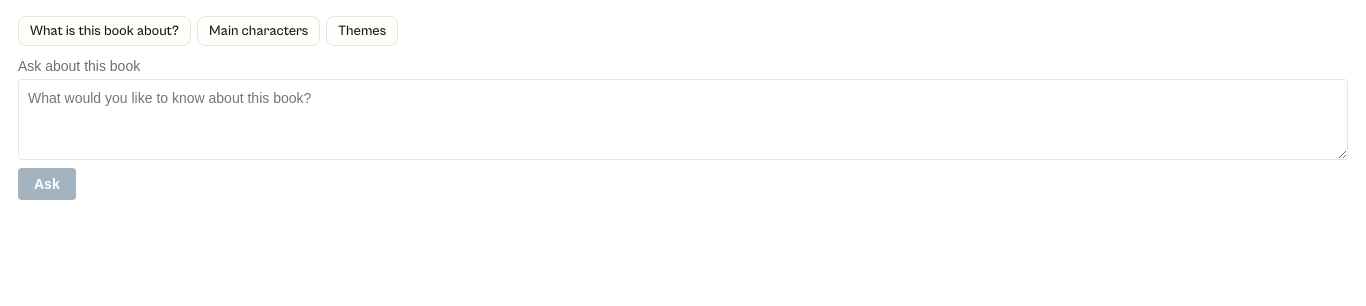
AiPanel › displays the AI response after submitting a question
The image size is (1366, 306).
Type "What is the main theme?" into the text box named "your question". click: [683, 120]
box: [18,79,1348,160]
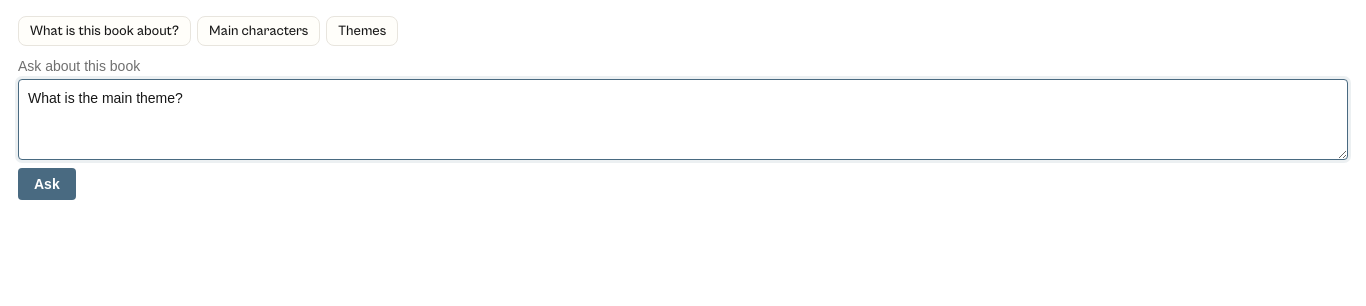
Click the button "Ask". click: [47, 184]
box: [18,168,76,200]
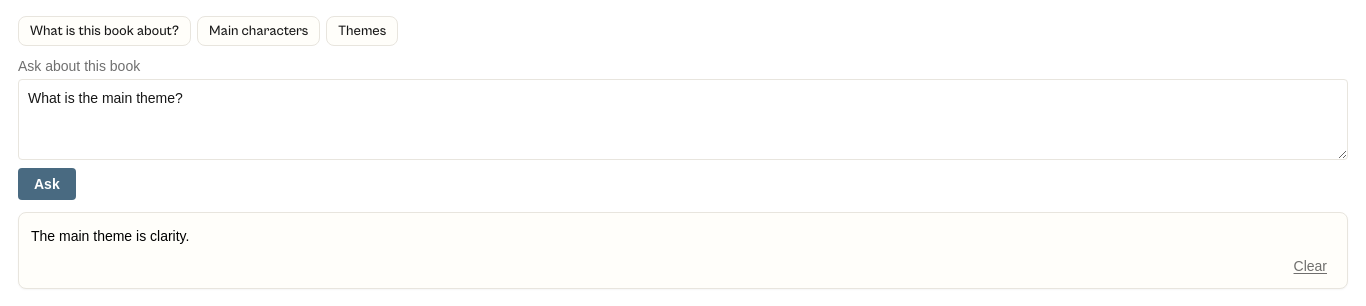
Expected: the text "The main theme is clarity." is shown, [31,228,190,244]
